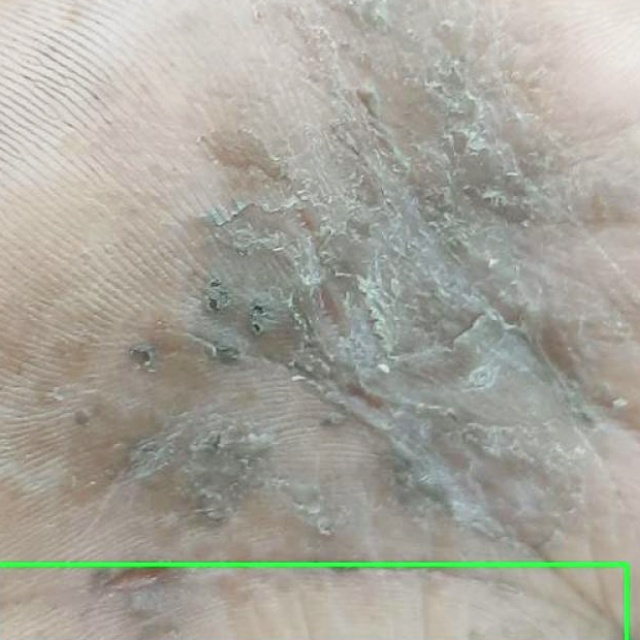Eczema: (0, 564, 626, 639)
